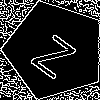Z: (30, 25, 84, 80)
